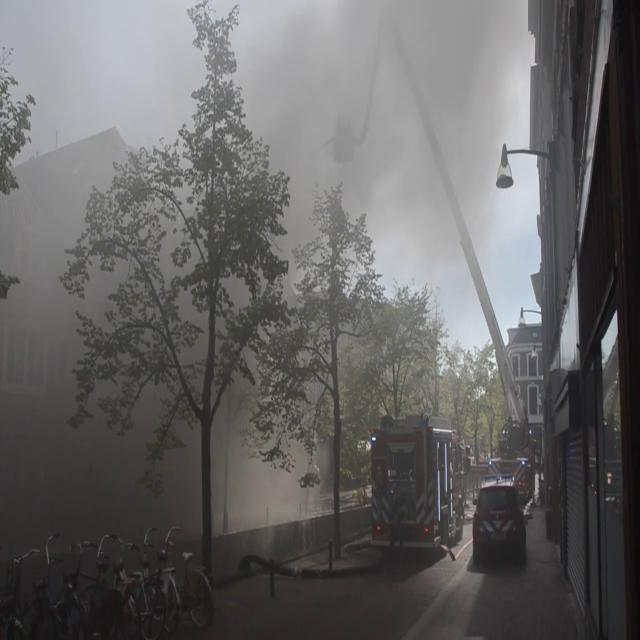Smoke: (0, 0, 522, 437)
